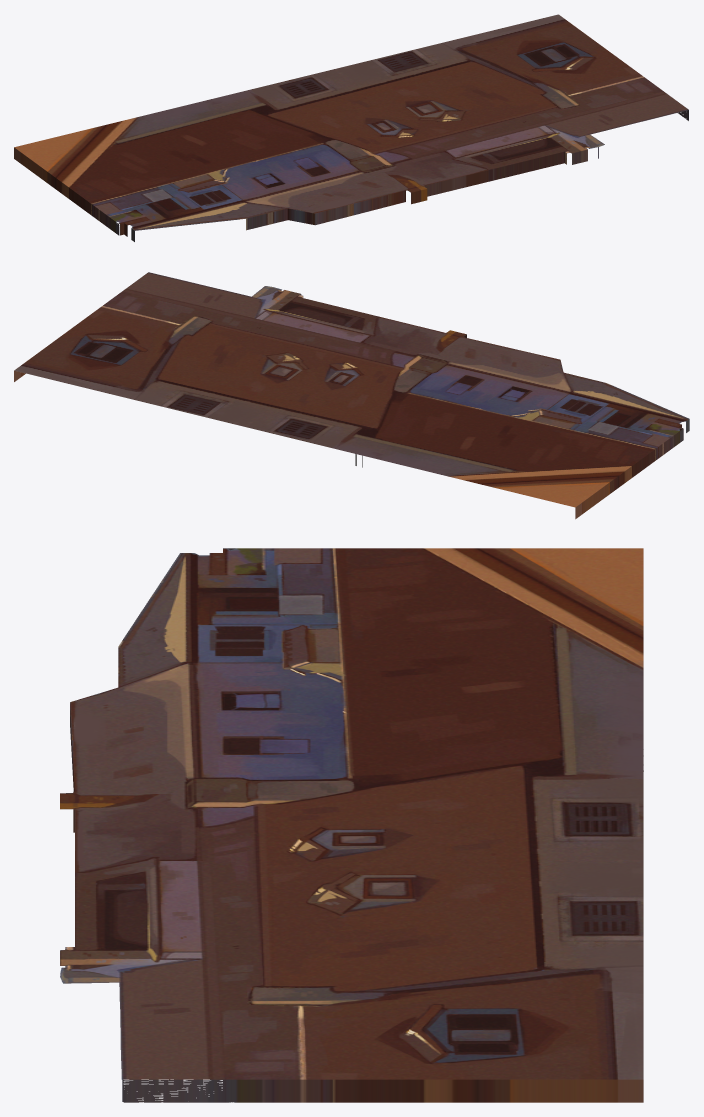
Rendered from Forground.fbx.
3 views of the same model, one above another, from view 1: azimuth 30°, elevation 25°; view 2: azimuth 150°, elevation 25°; view 3: azimuth 270°, elevation 25° (orthographic). The views are drawn at different scales.
Visible parts, largest first — view 1: Plane; view 2: Plane; view 3: Plane.
Boxes of the visible parts, x1,y1,x2,y2 form: Plane: (14,14,688,241); Plane: (14,272,689,519); Plane: (60,548,643,1102).
Size of the model in its own units: 1576 by 31.91 by 731.
